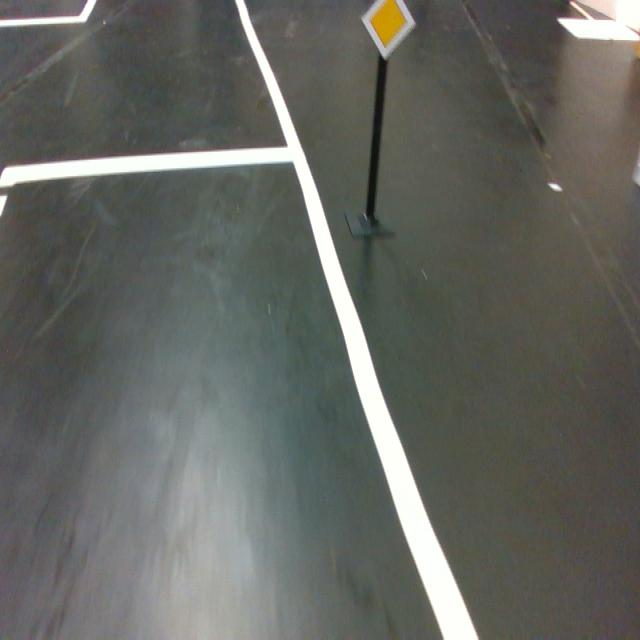priority-sign: (359, 0, 417, 62)
